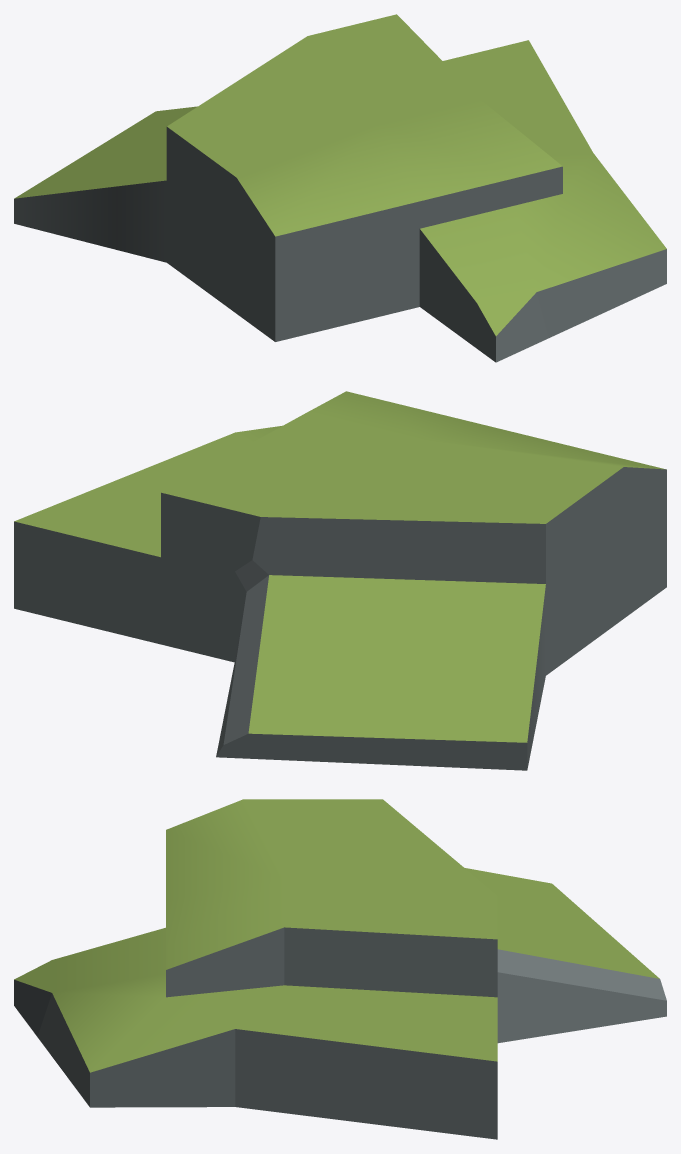
Rendered from rock06.fbx.
3 renders of one model, top to bottom at view 1: azimuth 30°, elevation 25°; view 2: azimuth 150°, elevation 25°; view 3: azimuth 270°, elevation 25°, orthographic. The views are drawn at different scales.
Parts seen in each view (by area): view 1: pCube10; view 2: pCube10; view 3: pCube10.
Boxes of the visible parts, x1,y1,x2,y2 form: pCube10: (14, 14, 666, 362); pCube10: (14, 391, 666, 770); pCube10: (14, 799, 666, 1139).
Bounding box in the file's own units: 18.32 × 5.12 × 21.28.
